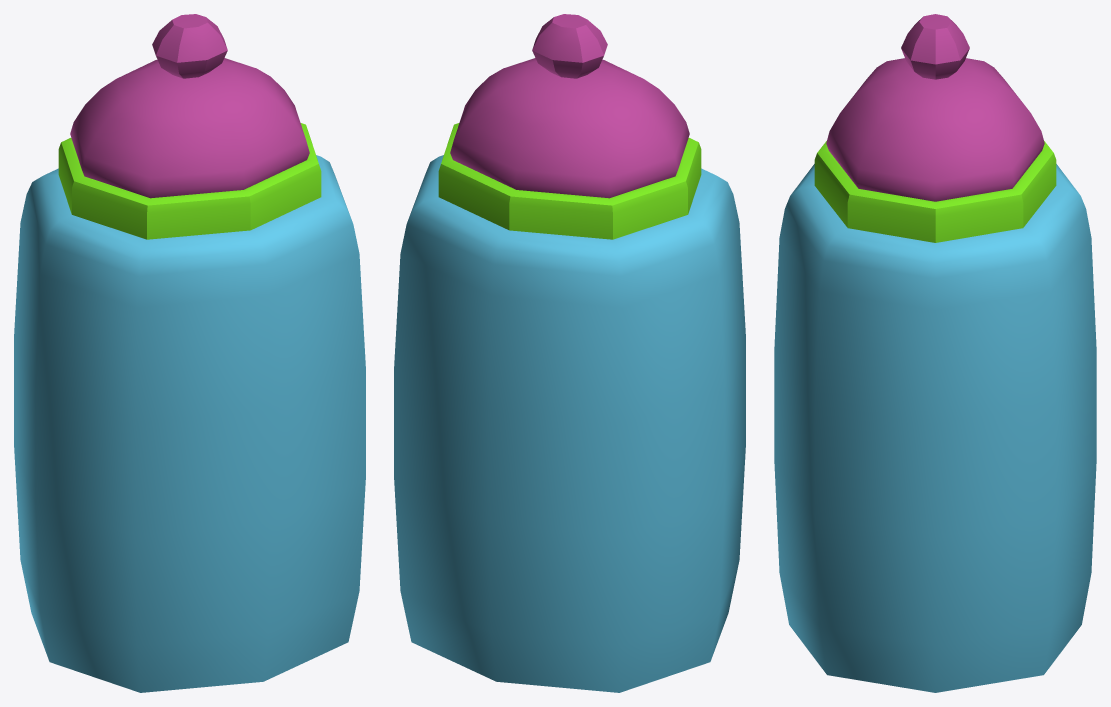
Rendered from biberon.fbx.
3 renders of one model, left to right at view 1: azimuth 30°, elevation 25°; view 2: azimuth 150°, elevation 25°; view 3: azimuth 270°, elevation 25°, orthographic.
Visible parts, largest first — view 1: Box022; view 2: Box022; view 3: Box022.
Boxes of the visible parts, x1,y1,x2,y2 form: Box022: (14, 14, 365, 692); Box022: (394, 14, 745, 692); Box022: (774, 14, 1096, 692).
Size of the model in its own units: 0.5222 by 0.4743 by 0.9796.
